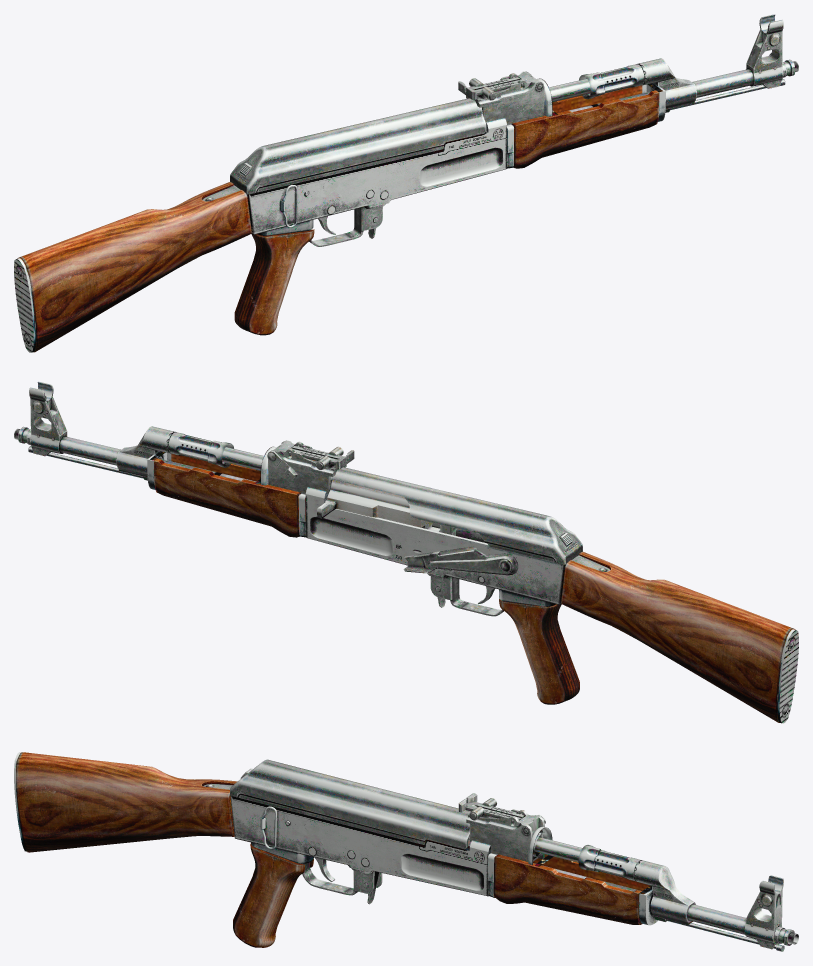
3 views of the same model, one above another, from view 1: azimuth 30°, elevation 25°; view 2: azimuth 150°, elevation 25°; view 3: azimuth 330°, elevation 25° (orthographic).
Visible parts, largest first — view 1: Gun_Root; view 2: Gun_Root; view 3: Gun_Root.
Part boxes in pixels (box(x1,y1,x2,y2)): Gun_Root: box(14, 14, 798, 352); Gun_Root: box(14, 381, 798, 723); Gun_Root: box(14, 752, 798, 951).
Size of the model in its own units: 0.7758 by 0.186 by 0.0593.
Materials: 2 (2 with a texture image).
